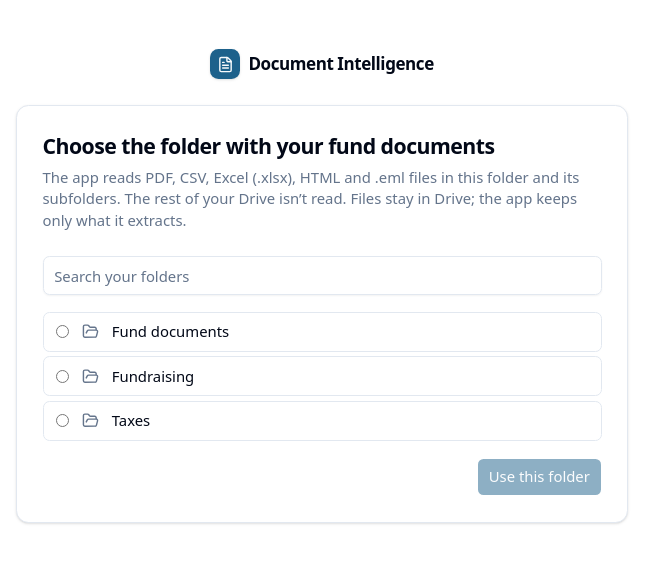
Test case: C3 choosing a folder › shows the server message when the folder is rejected
Click the radio button labelled "Taxes": [63, 421] box [56,414,69,427]
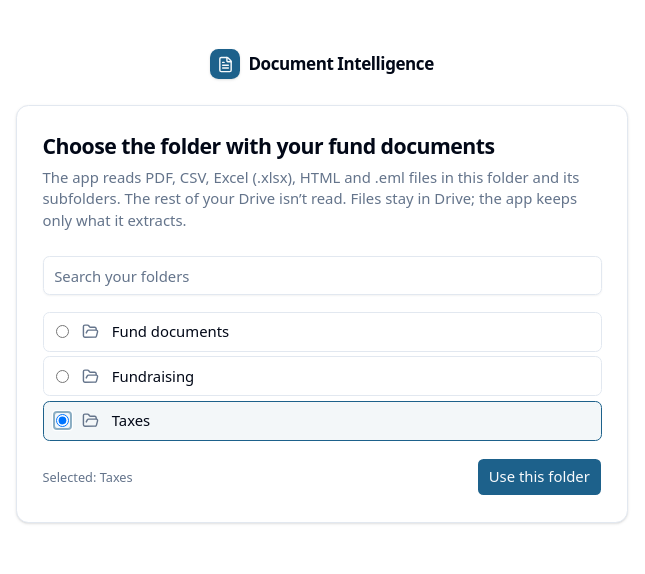
Click the button "Use this folder": [539, 477] box [477,458,602,496]
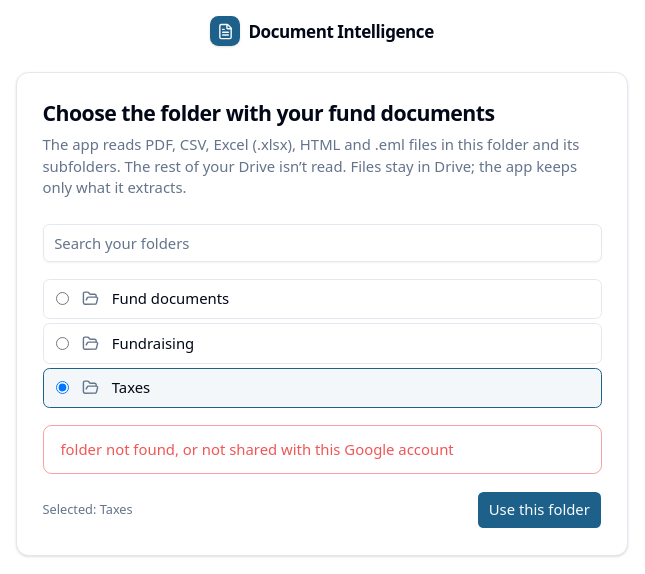
Expected: the message shows "folder not found", [60,439,454,459]
